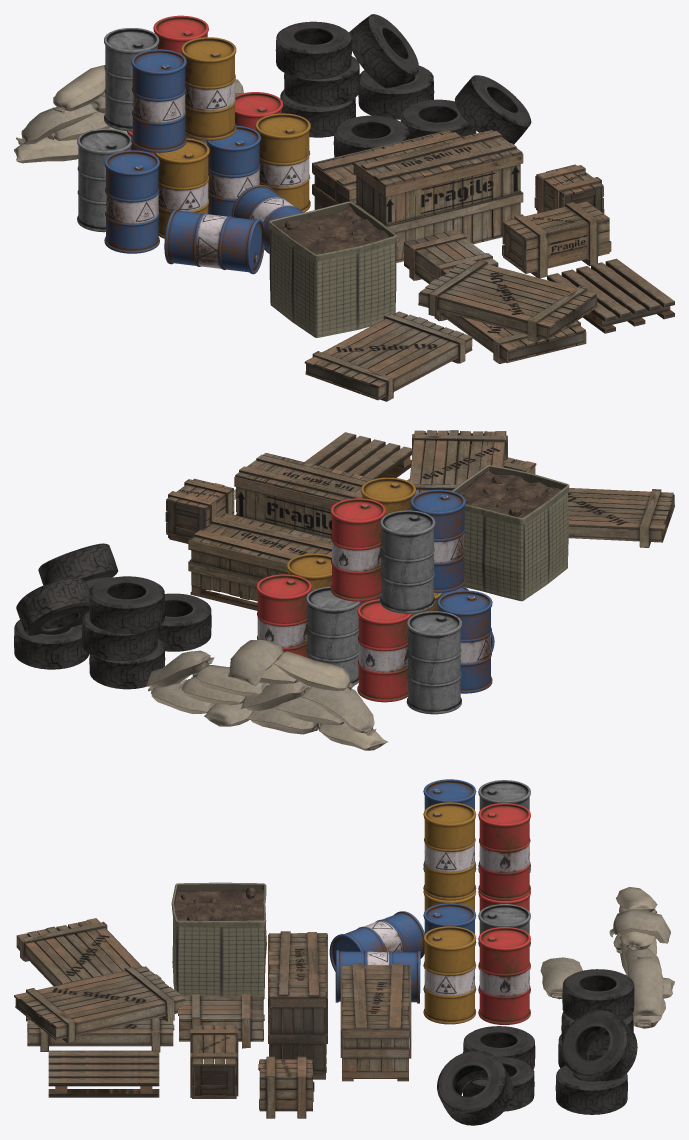
The model's file is Garbage.fbx.
3 renders of one model, top to bottom at view 1: azimuth 30°, elevation 25°; view 2: azimuth 150°, elevation 25°; view 3: azimuth 270°, elevation 25°, orthographic. The views are drawn at different scales.
Parts seen in each view (by area): view 1: Cube.100, Cube.007, Cube.113, Cube.112, opon.005, Cube.081, opon.003, Cylinder.007, Cube.030, Cylinder.004, opon.006, Cylinder.011 (+15 smaller); view 2: Cube.030, Cube.007, Cube.109, opon.005, Cube.100, opon.003, Cube.112, Cylinder.008, Cylinder.005, Cylinder.009, Cube.113, Cylinder.006 (+10 smaller); view 3: Cube.007, Cube.109, Cube.100, Cube.113, opon.003, opon.006, Cube.030, Cube.112, Cube.009, Cylinder, Cylinder2, Cylinder.009 (+14 smaller).
Boxes of the visible parts, bbox=[...] form: Cube.100: bbox=[353, 129, 523, 262]; Cube.007: bbox=[269, 201, 396, 337]; Cube.113: bbox=[418, 259, 597, 342]; Cube.112: bbox=[304, 311, 472, 401]; opon.005: bbox=[275, 21, 359, 137]; Cube.081: bbox=[502, 201, 611, 278]; opon.003: bbox=[349, 14, 434, 119]; Cylinder.007: bbox=[131, 49, 186, 152]; Cube.030: bbox=[14, 65, 243, 163]; Cylinder.004: bbox=[104, 150, 159, 253]; opon.006: bbox=[400, 75, 531, 144]; Cylinder.011: bbox=[164, 209, 264, 274]; Cube.030: bbox=[145, 640, 387, 750]; Cube.007: bbox=[452, 465, 569, 601]; Cube.109: bbox=[188, 513, 331, 610]; opon.005: bbox=[82, 576, 165, 689]; Cube.100: bbox=[234, 453, 373, 538]; opon.003: bbox=[14, 578, 89, 669]; Cube.112: bbox=[568, 488, 674, 547]; Cylinder.008: bbox=[380, 510, 435, 613]; Cylinder.005: bbox=[406, 611, 461, 714]; Cylinder.009: bbox=[330, 498, 385, 601]; Cube.113: bbox=[409, 430, 507, 494]; Cylinder.006: bbox=[357, 599, 412, 702]; Cube.007: bbox=[171, 882, 266, 999]; Cube.109: bbox=[340, 963, 411, 1081]; Cube.100: bbox=[268, 931, 327, 1079]; Cube.113: bbox=[14, 966, 185, 1043]; opon.003: bbox=[555, 1010, 637, 1114]; opon.006: bbox=[437, 1050, 534, 1125]; Cube.030: bbox=[609, 887, 674, 1028]; Cube.112: bbox=[16, 918, 149, 986]; Cube.009: bbox=[48, 1050, 159, 1097]; Cylinder: bbox=[423, 926, 476, 1024]; Cylinder2: bbox=[423, 802, 476, 900]; Cylinder.009: bbox=[478, 803, 530, 901].
Size of the model in its own units: 494 by 200 by 690.
